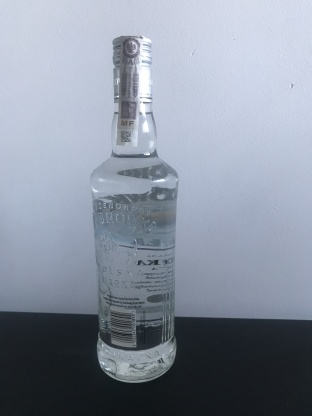nakretka: (110, 31, 154, 107)
